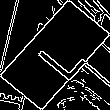L_NW: (25, 27, 85, 83)
